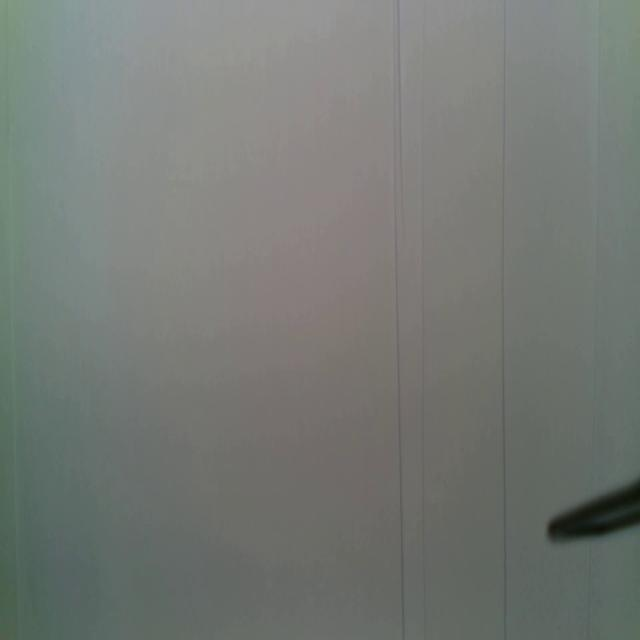crease: (6, 5, 22, 637), (391, 0, 406, 632), (586, 0, 601, 476), (420, 2, 430, 639), (500, 0, 509, 640), (585, 540, 595, 638)
